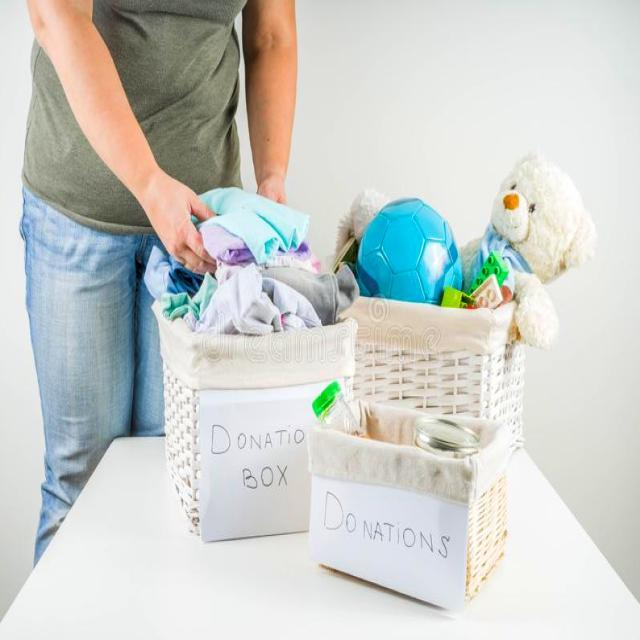clothes: (212, 232, 326, 337)
